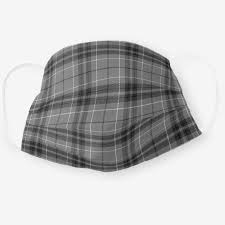cloth_mask: (1, 39, 225, 173)
